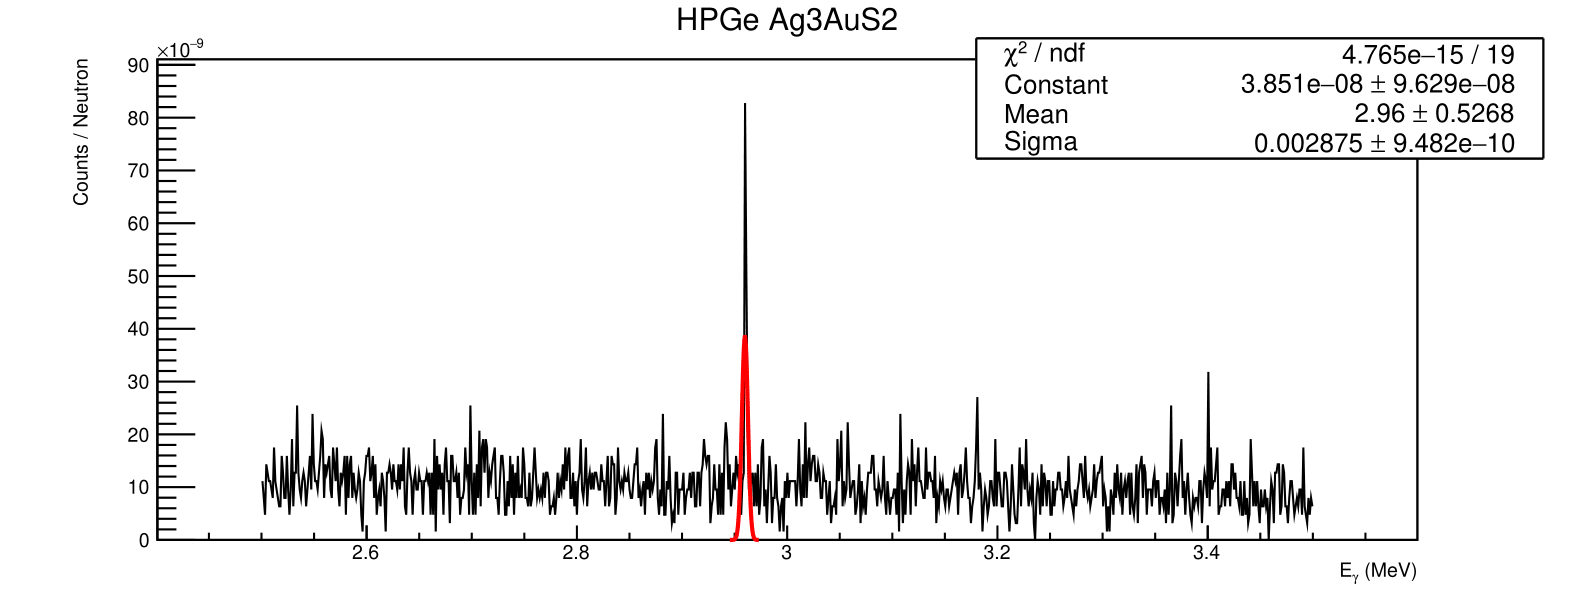other: (766, 428, 1332, 527), (252, 416, 721, 528)
